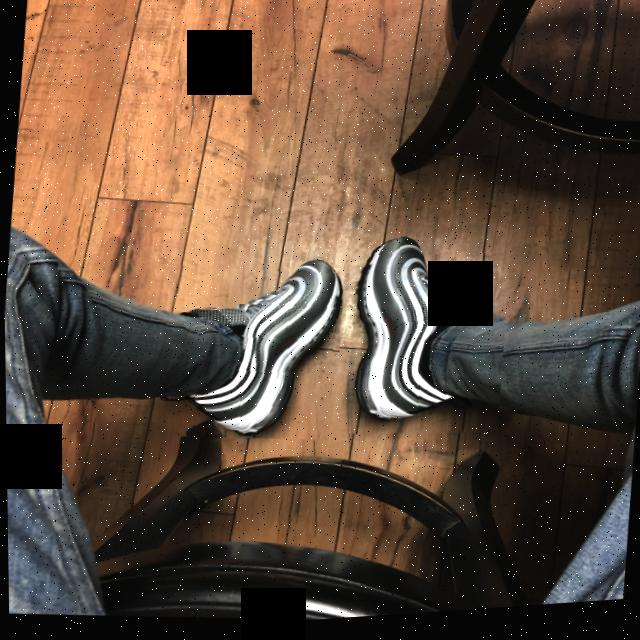shoe: (341, 217, 513, 451), (162, 242, 347, 453)
